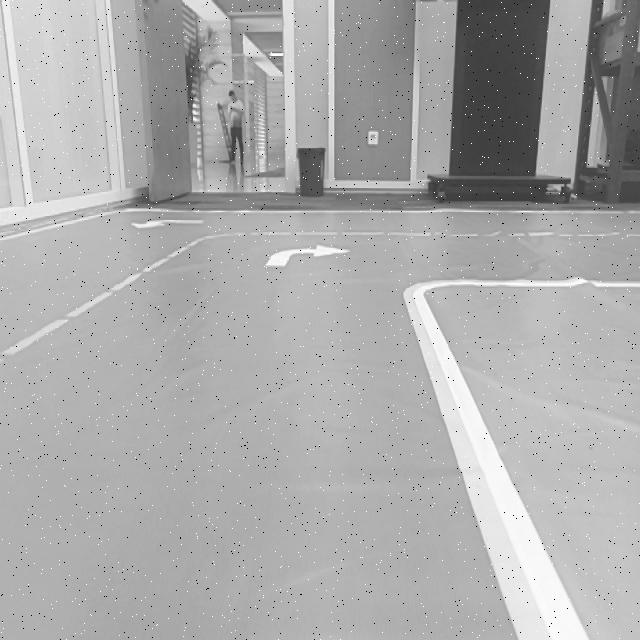left_lane: (0, 237, 204, 366)
right_lane: (403, 295, 553, 640)
